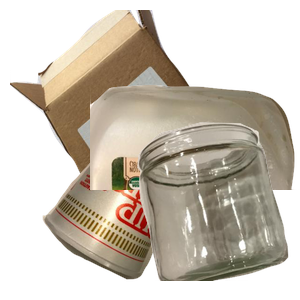cardboard: (10, 10, 227, 190)
glass: (135, 120, 300, 300)
plastic: (90, 82, 300, 262)
trash: (40, 121, 221, 300)
